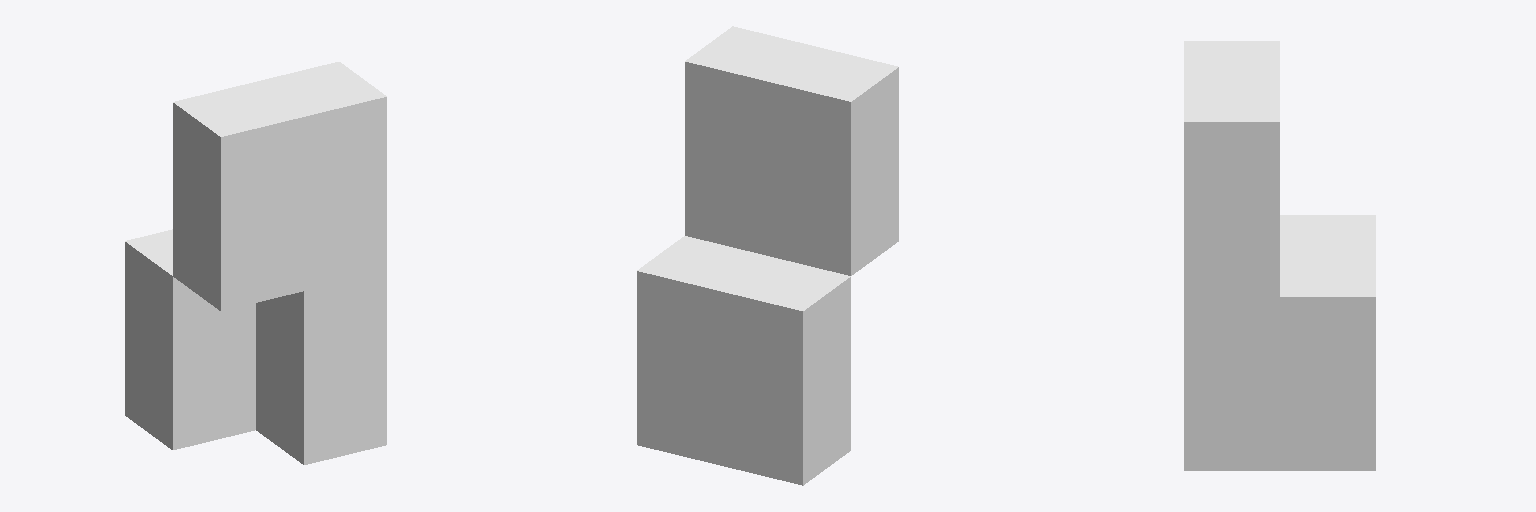
The model's file is map1.65.vox.obj.
3 renders of one model, left to right at view 1: azimuth 30°, elevation 25°; view 2: azimuth 150°, elevation 25°; view 3: azimuth 270°, elevation 25°, orthographic.
Parts seen in each view (by area): view 1: object 1; view 2: object 1; view 3: object 1.
Part boxes in pixels (x1,y1,x2,y2): object 1: (125, 62, 386, 464); object 1: (637, 26, 898, 485); object 1: (1184, 41, 1375, 470).
Size of the model in its own units: 4 by 8 by 4.